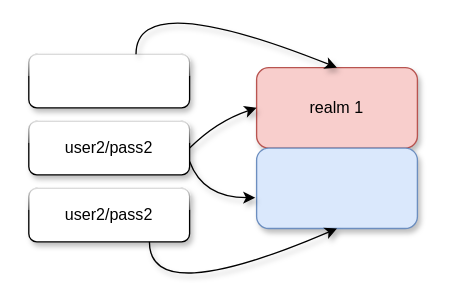
Image size: 449x297. Some labels were removed from this diagram. Each missing label, with the centre of its shape:
"realm 2" belongs at (x=337, y=189).
"user1/pass1" belongs at (x=110, y=82).
